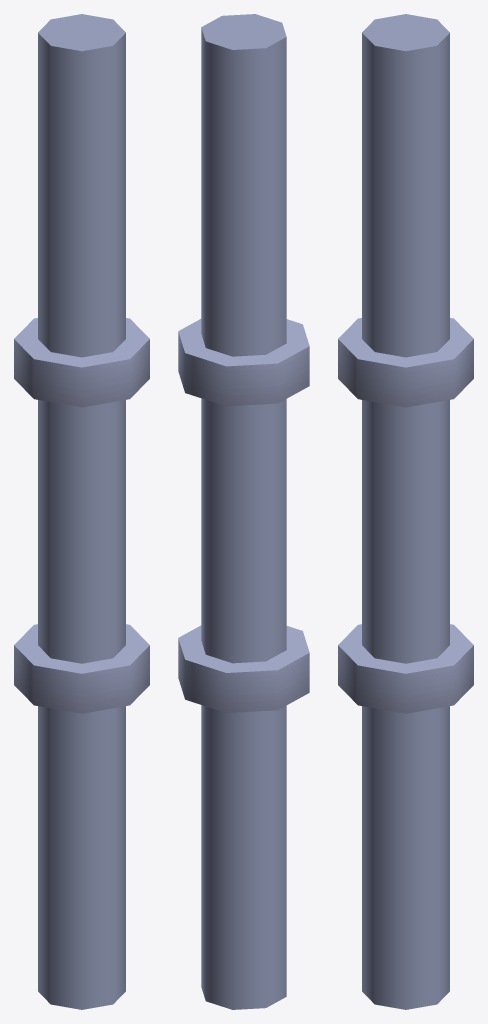
Rendered from kenney-building-gutter-vertical-wall.glb.
3 views of the same model, side by side, from view 1: azimuth 90°, elevation 25°; view 2: azimuth 210°, elevation 25°; view 3: azimuth 270°, elevation 25° (orthographic).
Visible parts, largest first — view 1: gutter-vertical-wall; view 2: gutter-vertical-wall; view 3: gutter-vertical-wall.
Part boxes in pixels (bbox=[...]): gutter-vertical-wall: bbox=[14, 14, 149, 1009]; gutter-vertical-wall: bbox=[178, 14, 309, 1009]; gutter-vertical-wall: bbox=[338, 14, 473, 1009].
Size of the model in its own units: 0.3082 by 2.4 by 0.3082.
1 material, 1 textured.
